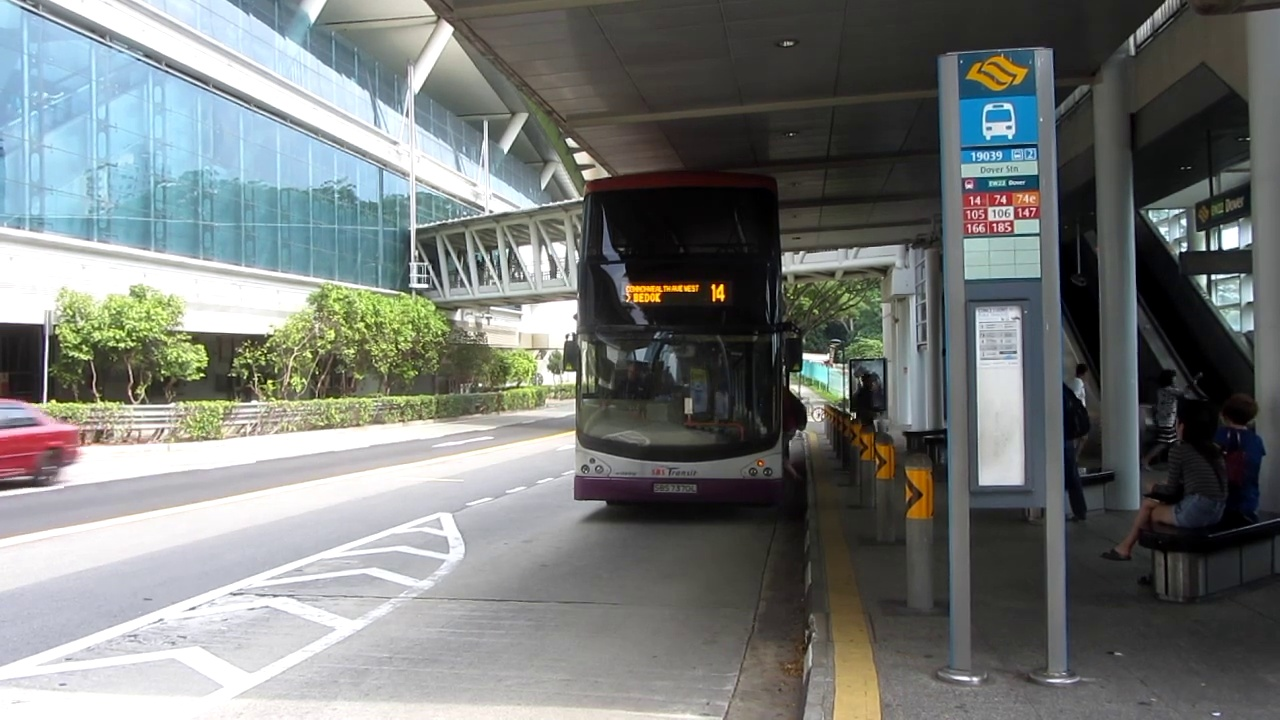bus panel: (621, 281, 732, 307)
